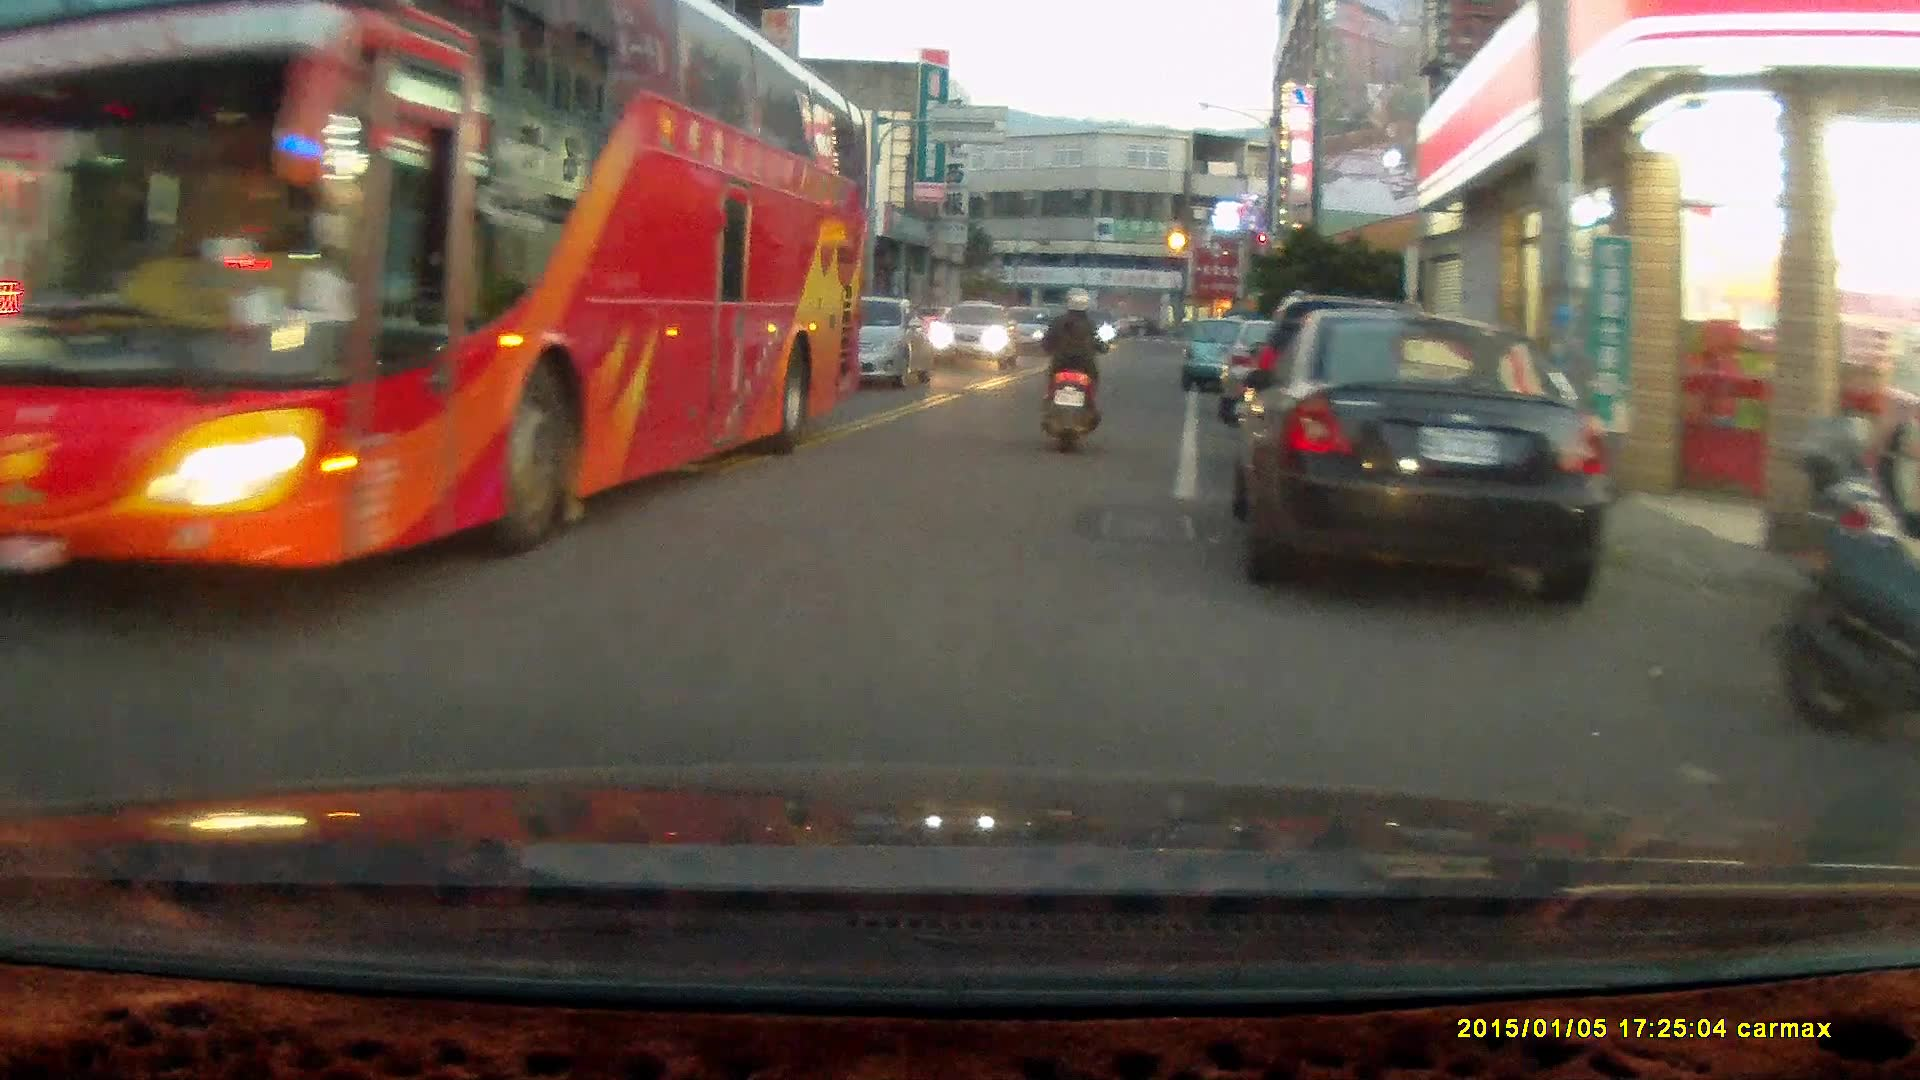rider: (1035, 282, 1110, 453)
vehicle: (4, 18, 871, 578), (1223, 304, 1612, 603), (809, 293, 929, 390), (1183, 315, 1264, 389), (927, 299, 1016, 367)
